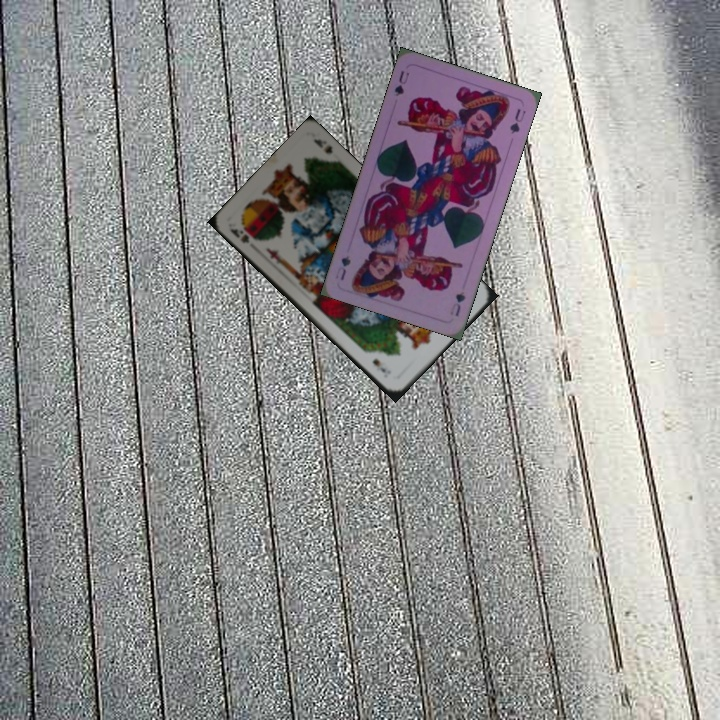GU: (390, 66, 412, 99), (446, 287, 468, 319)
SK: (226, 224, 259, 246)
